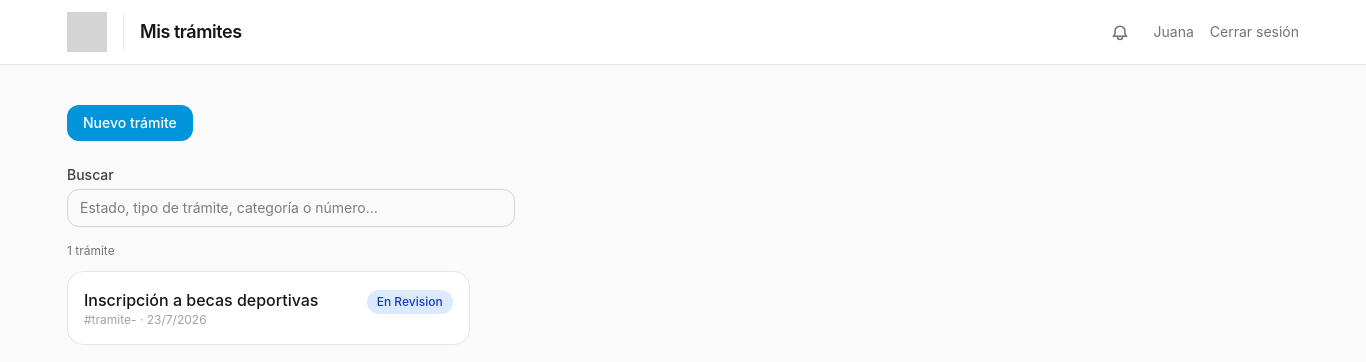
it: MisTramites › al escribir en el buscador, espera la pausa y pide la búsqueda al backend desde offset 0
expect the text "Inscripción a becas deportivas" is shown: met, box [84,288,355,312]
Type "vivienda" into the search field labelled "Buscar" at (291, 208), box [67,189,515,227]
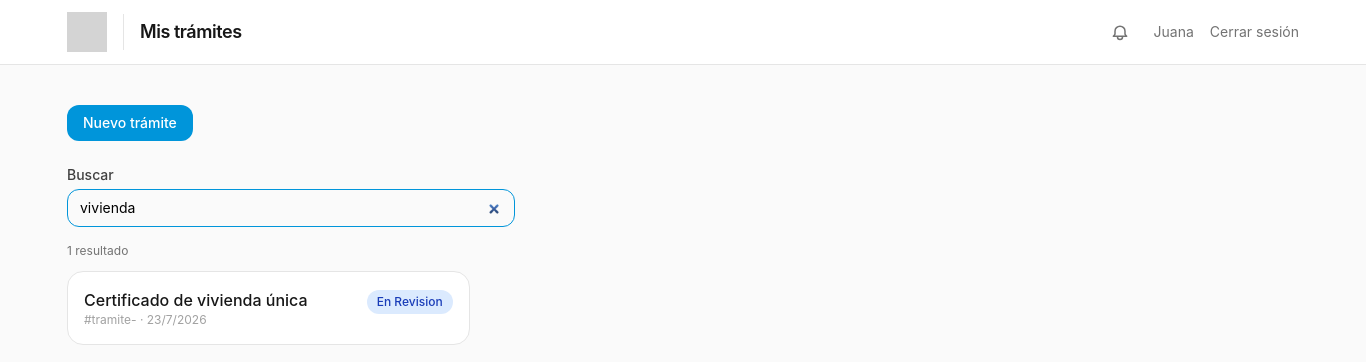
expect the text "Certificado de vivienda única" is shown: met, box [84,290,308,310]
